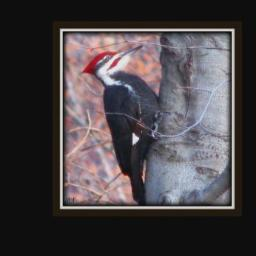Woodpecker: (80, 44, 171, 206)
